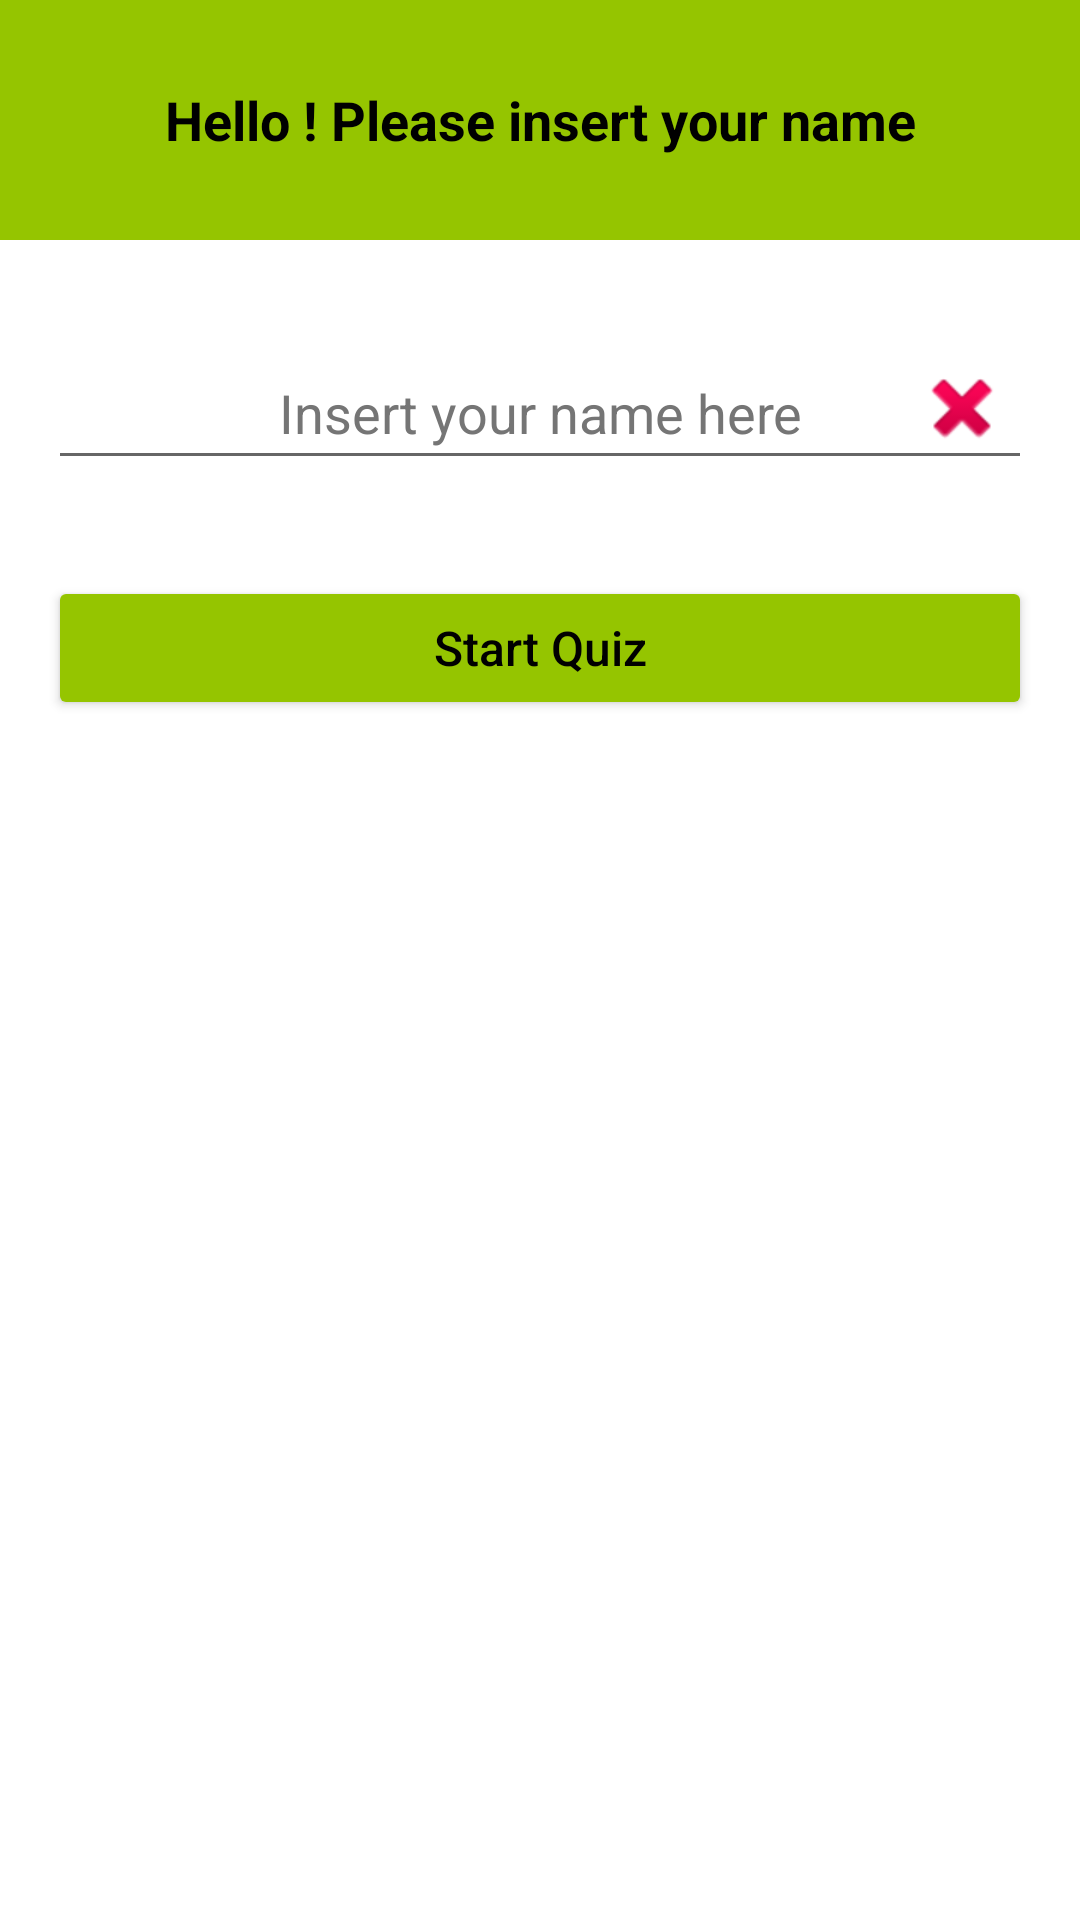

Where icons sit on this 1080×1920 app screen, as bbox=(x1, y1, x2, y2):
delete: bbox=(931, 379, 993, 438)
